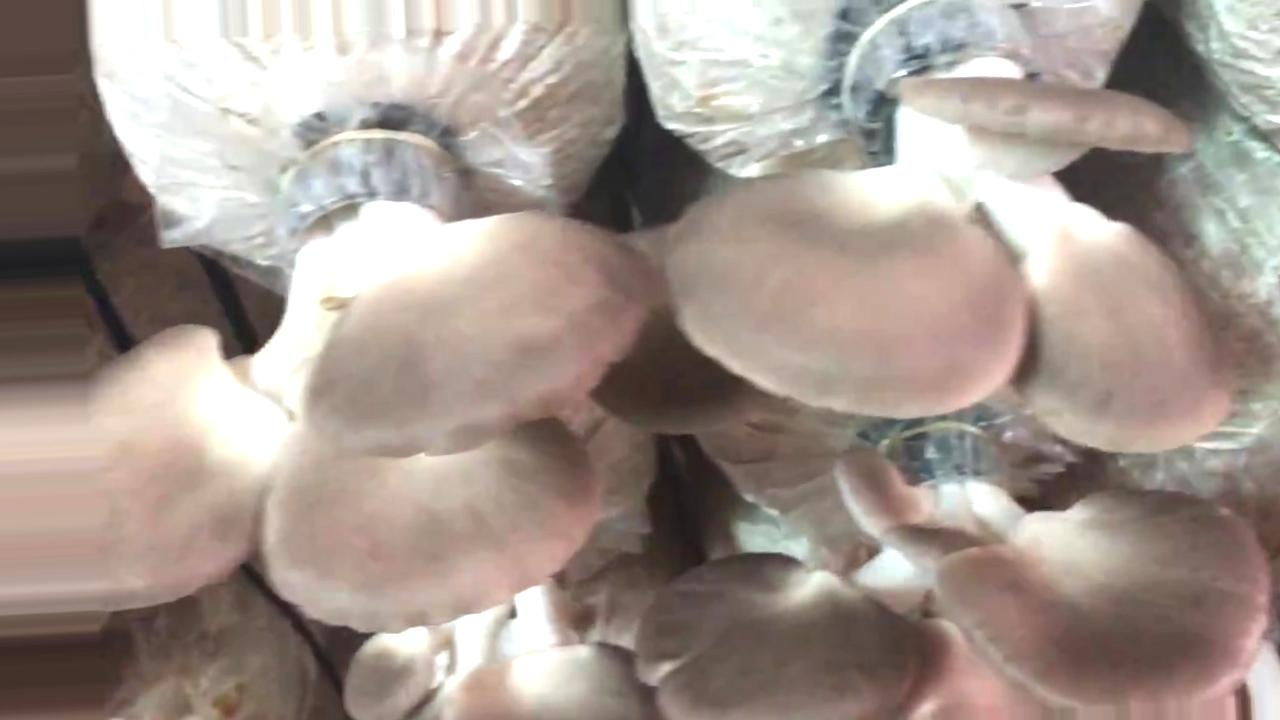nam: (1, 131, 656, 633), (670, 1, 1224, 452), (638, 424, 1267, 720), (341, 580, 661, 720)
